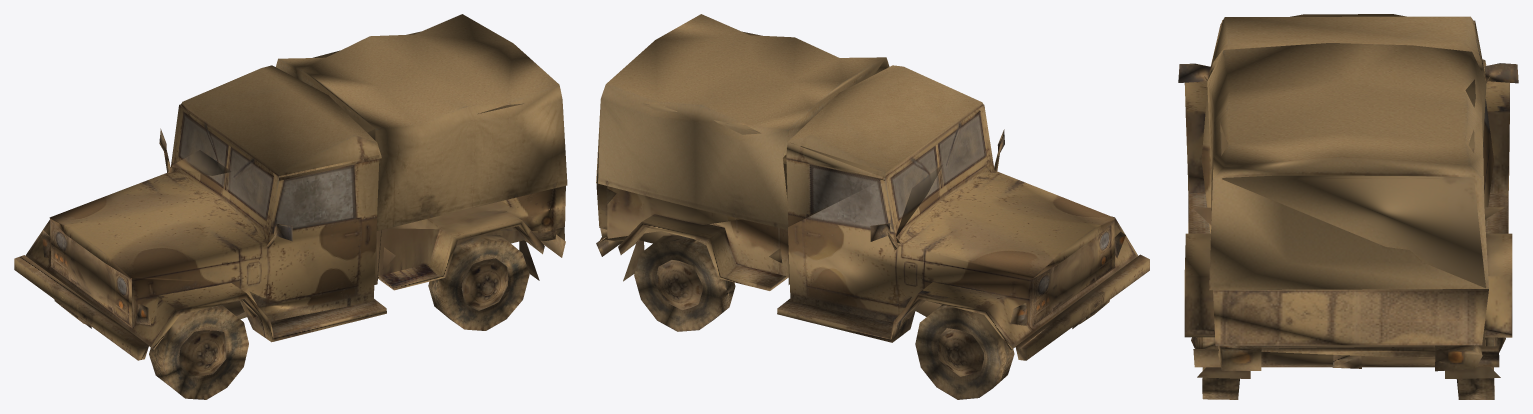
3 views of the same model, side by side, from view 1: azimuth 30°, elevation 25°; view 2: azimuth 150°, elevation 25°; view 3: azimuth 270°, elevation 25° (orthographic). The views are drawn at different scales.
Visible parts, largest first — view 1: Mesh_0; view 2: Mesh_0; view 3: Mesh_0.
Boxes of the visible parts, <box> form: Mesh_0: <box>14,14,567,399</box>; Mesh_0: <box>596,14,1149,399</box>; Mesh_0: <box>1178,14,1518,399</box>.
Size of the model in its own units: 100 by 49.61 by 52.73.
1 material, 1 textured.
